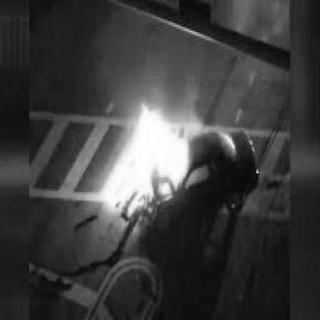Fire: (94, 99, 197, 219)
